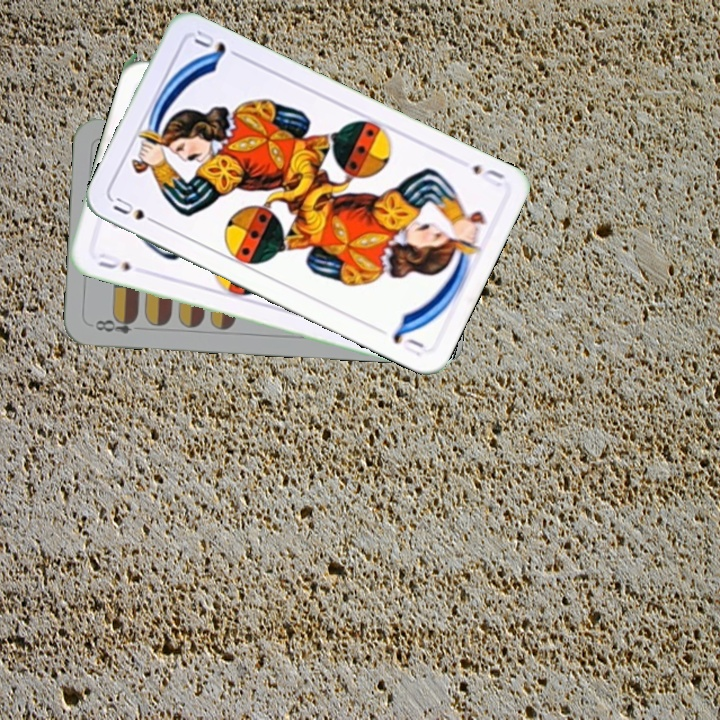E8: (91, 312, 139, 336)
SU: (109, 192, 164, 228), (469, 160, 508, 190), (94, 248, 134, 275)
